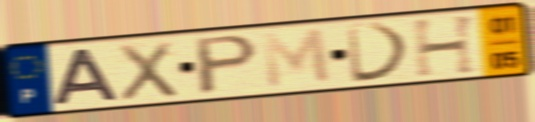A: (51, 46, 123, 108)
D: (344, 20, 414, 85)
H: (409, 12, 480, 80)
M: (259, 26, 335, 91)
P: (194, 32, 262, 98)
X: (115, 39, 181, 104)
